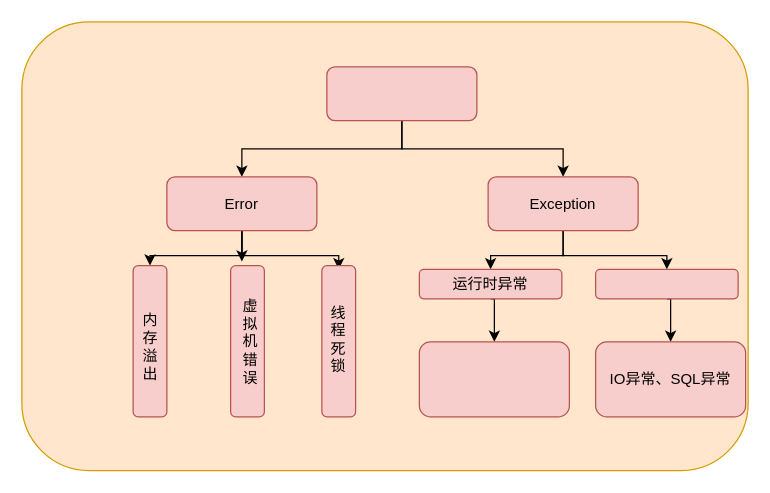
The diagram is 770 pixels wide and 493 high, and some of its shapes have lost their labels. The centre of each missing label's shape, as x and y in pixels:
Throwable: pixel 401 93
空指针异常、数组下标异常、算数异常等: pixel 493 379
编译时异常: pixel 666 283
